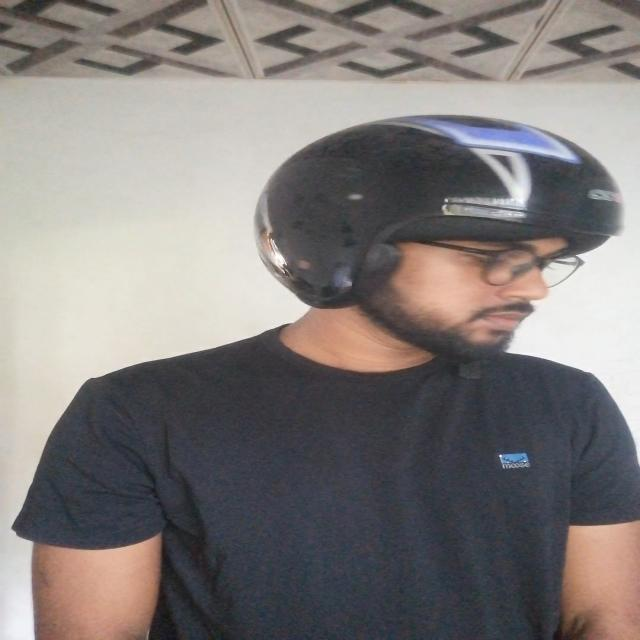Helmet_Wearer: (229, 103, 640, 406)
Person: (35, 94, 640, 640)
